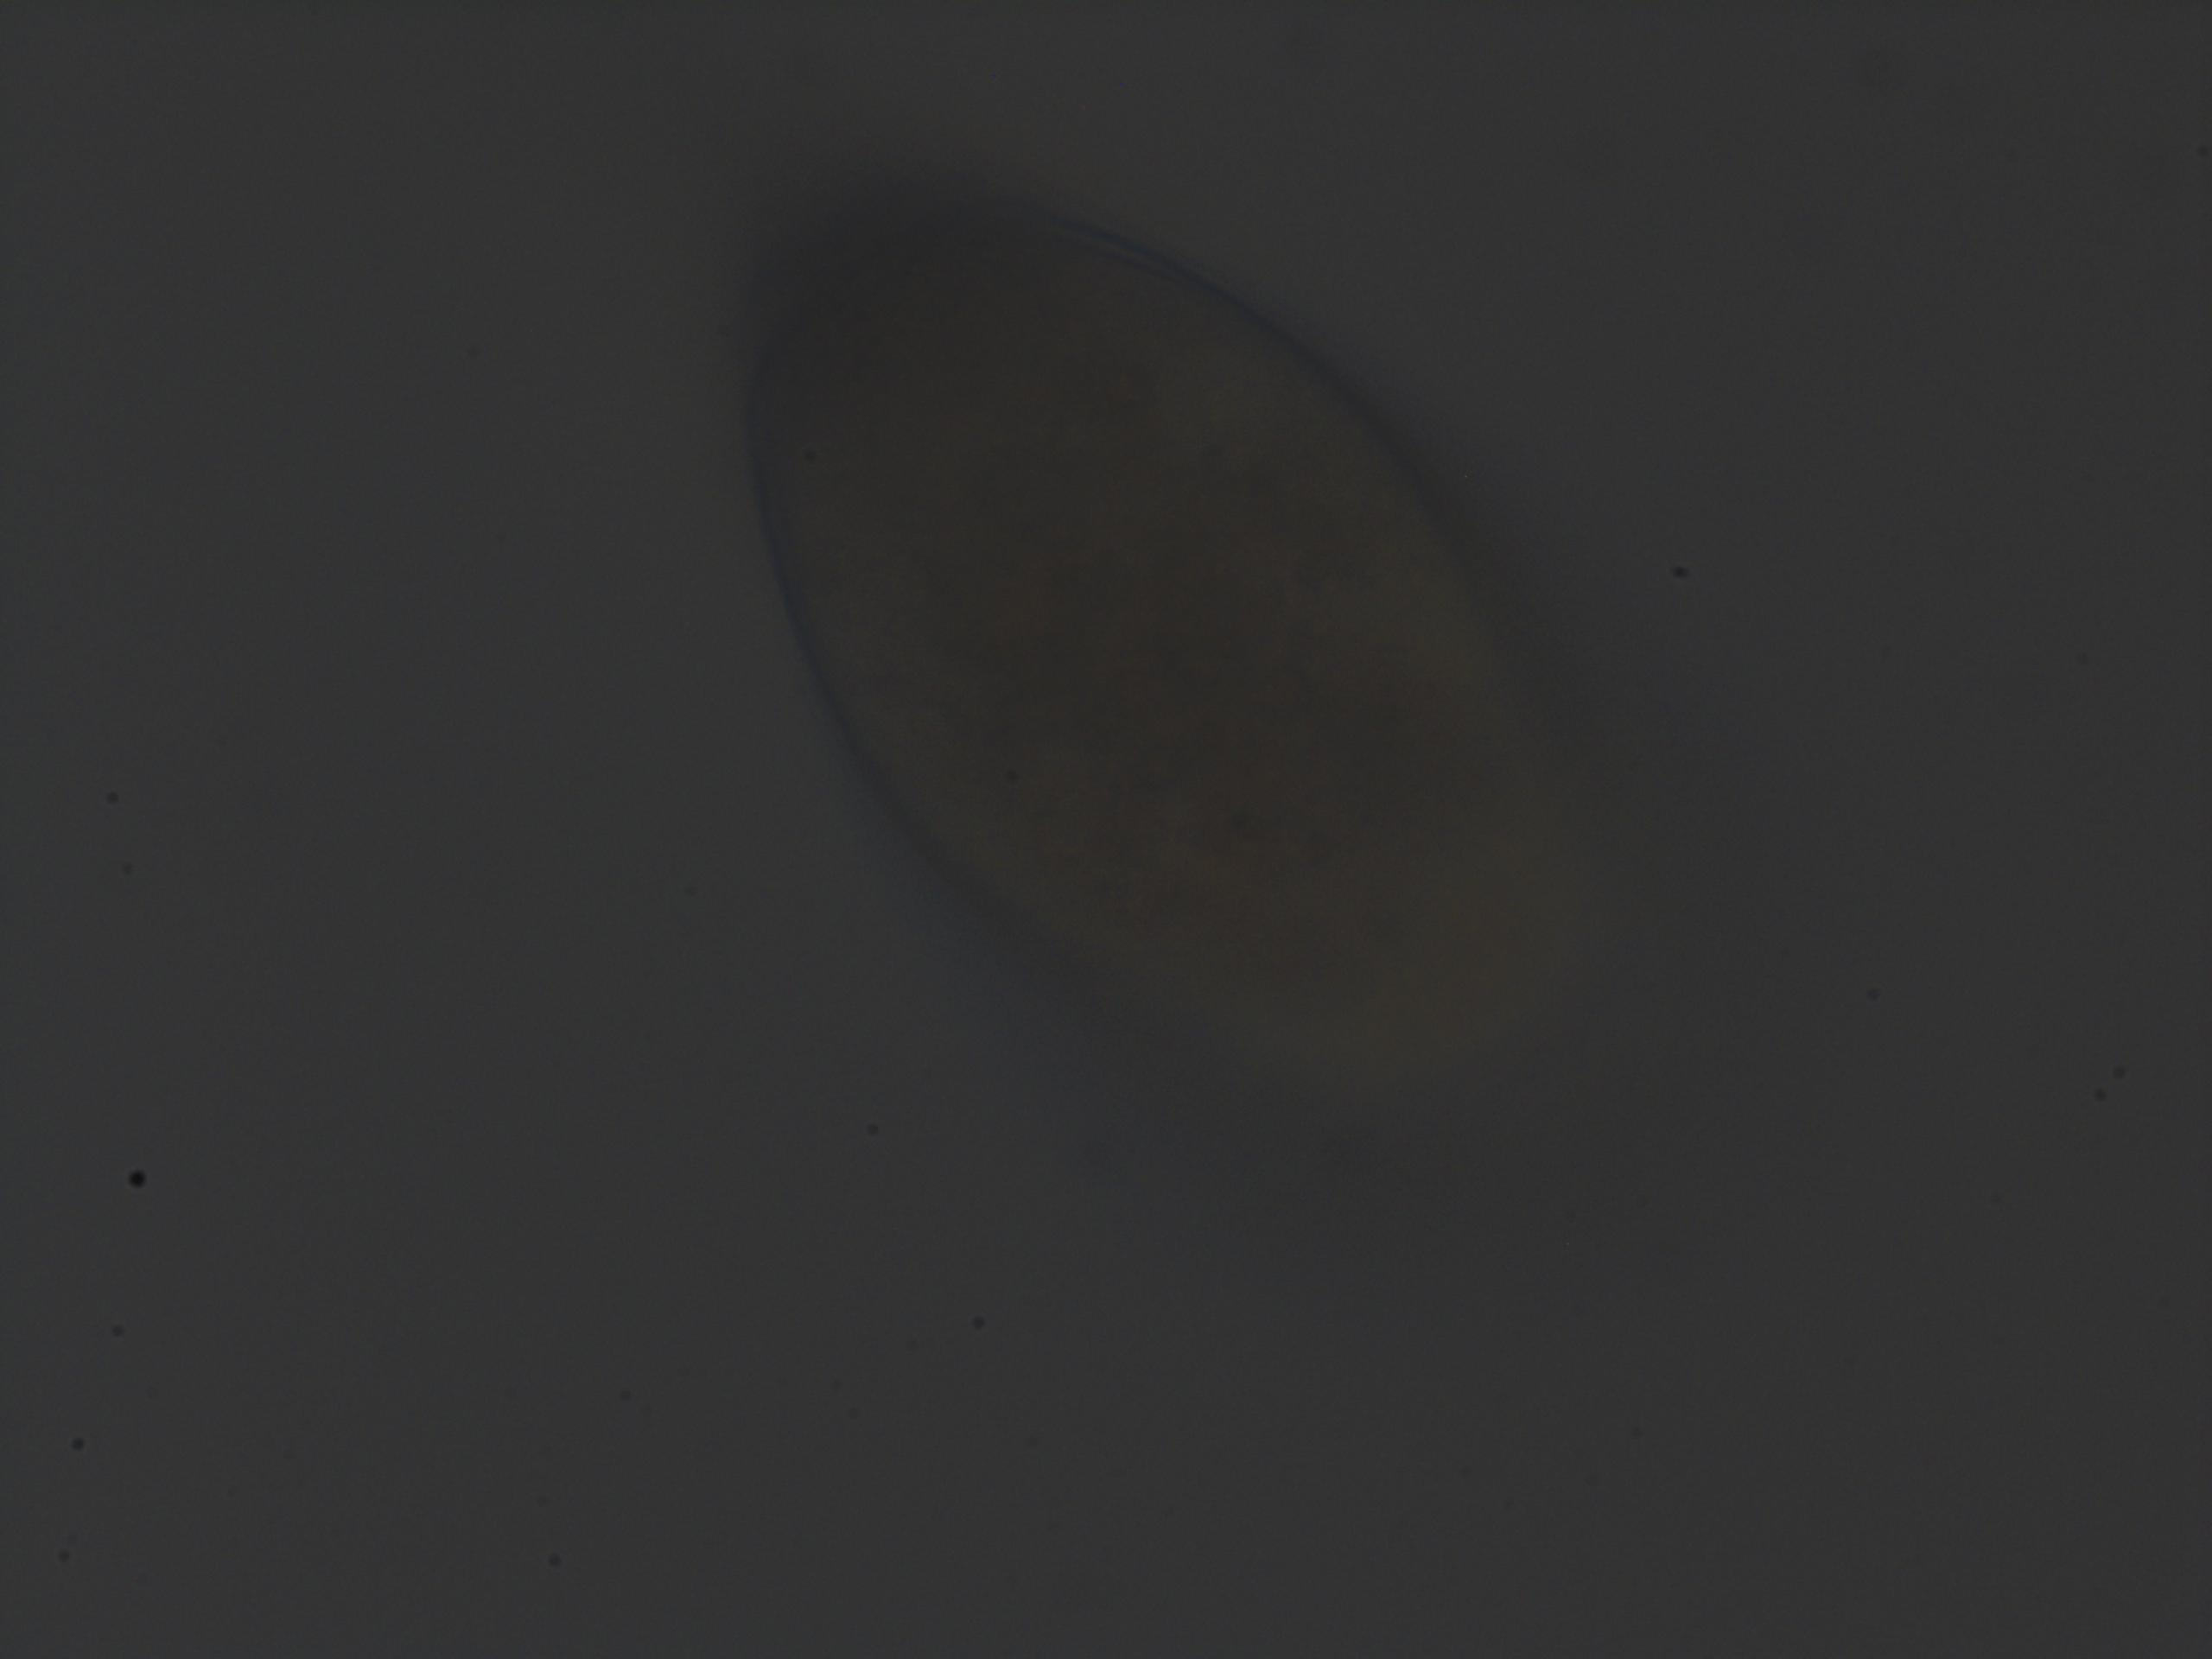protozoa: (636, 0, 1662, 1154)
